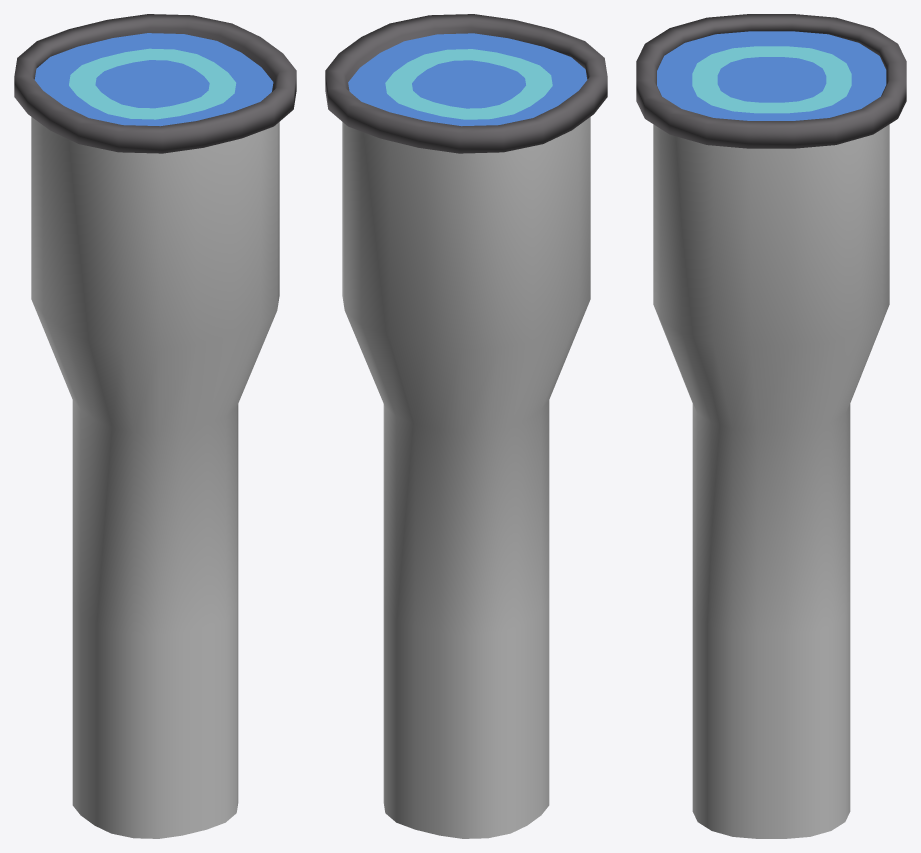
The model's file is Tower_fattop_1.fbx.
The picture shows the model from 3 angles, left to right: view 1: azimuth 30°, elevation 25°; view 2: azimuth 150°, elevation 25°; view 3: azimuth 270°, elevation 25°; orthographic projection.
Parts seen in each view (by area): view 1: Cube.067; view 2: Cube.067; view 3: Cube.067.
Part boxes in pixels (x1=…): Cube.067: x1=14, y1=14, x2=296, y2=838; Cube.067: x1=325, y1=14, x2=607, y2=838; Cube.067: x1=636, y1=14, x2=906, y2=838.
Size of the model in its own units: 240 by 720 by 240.
